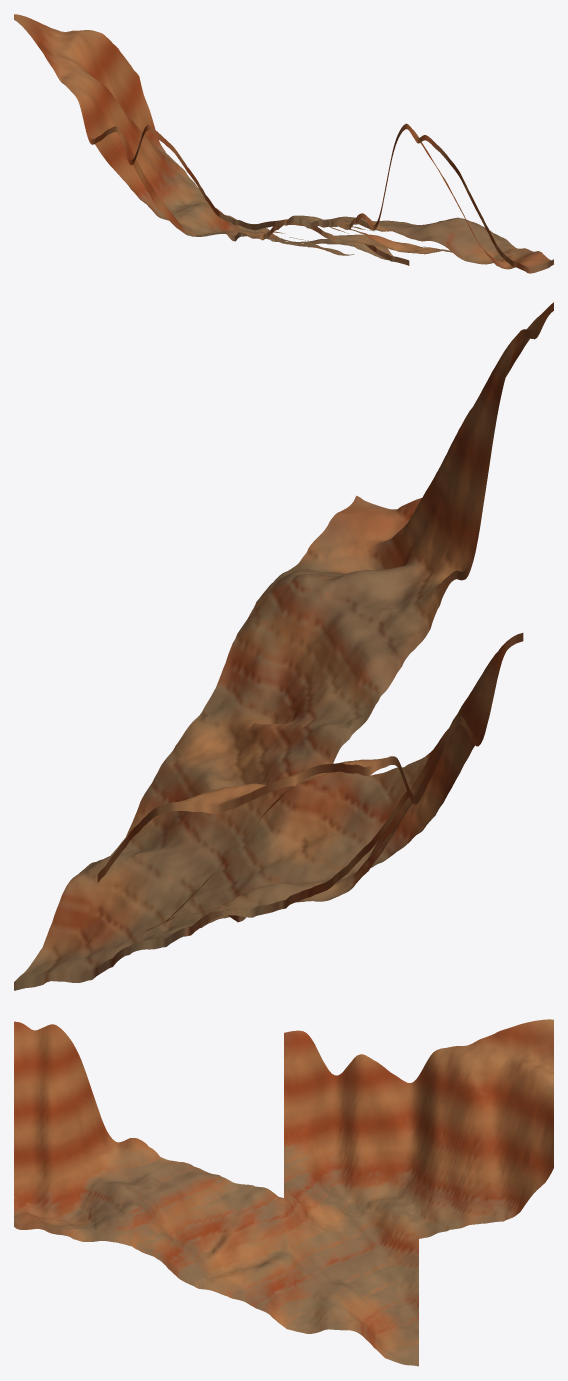
File: terrain-013.glb
The picture shows the model from 3 angles, top to bottom: view 1: azimuth 30°, elevation 25°; view 2: azimuth 150°, elevation 25°; view 3: azimuth 270°, elevation 25°; orthographic projection. The views are drawn at different scales.
Parts seen in each view (by area): view 1: terrain-013; view 2: terrain-013; view 3: terrain-013.
Part boxes in pixels (<box>): terrain-013: <box>14,14,553,273</box>; terrain-013: <box>14,302,553,990</box>; terrain-013: <box>14,1019,553,1366</box>.
Size of the model in its own units: 192 by 226 by 384.
